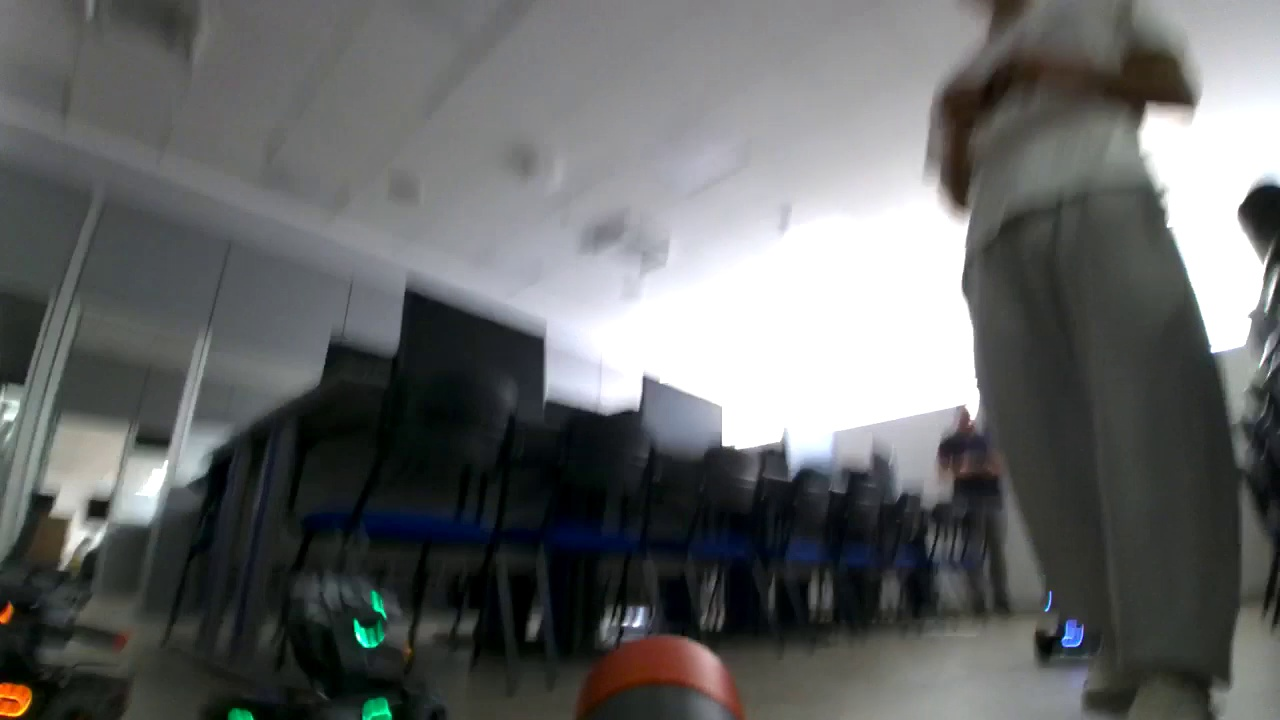robot: (205, 551, 446, 720), (1, 522, 126, 720), (1036, 570, 1119, 660)
